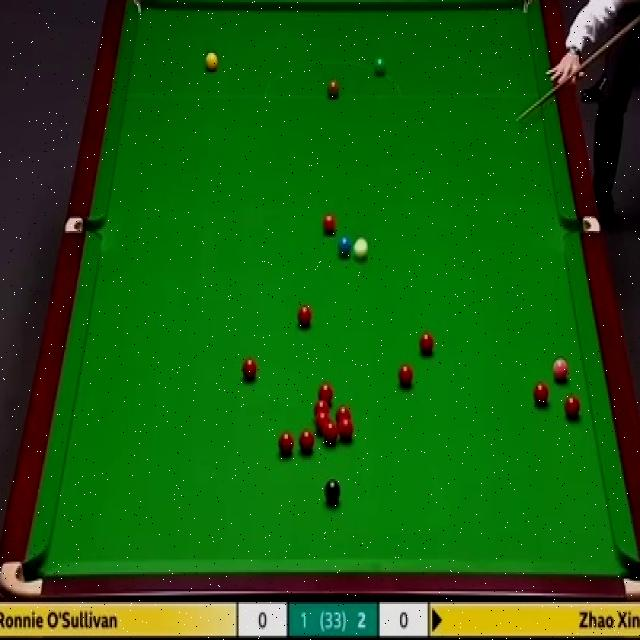black-ball: (323, 479, 341, 502)
blue-ball: (336, 235, 354, 259)
brown-ball: (326, 79, 339, 99)
green-ball: (374, 54, 386, 76)
pink-ball: (551, 358, 570, 382)
red-ball: (276, 430, 295, 458), (563, 394, 581, 419), (533, 379, 549, 407), (296, 304, 312, 329), (339, 416, 354, 442), (241, 356, 257, 379), (418, 331, 434, 354), (300, 429, 314, 454), (323, 421, 338, 444), (398, 363, 412, 387), (318, 382, 332, 404), (322, 214, 337, 234), (316, 412, 330, 433), (313, 400, 329, 418), (336, 404, 352, 420)
white-ball: (354, 236, 368, 262)
yellow-ball: (205, 52, 218, 74)
